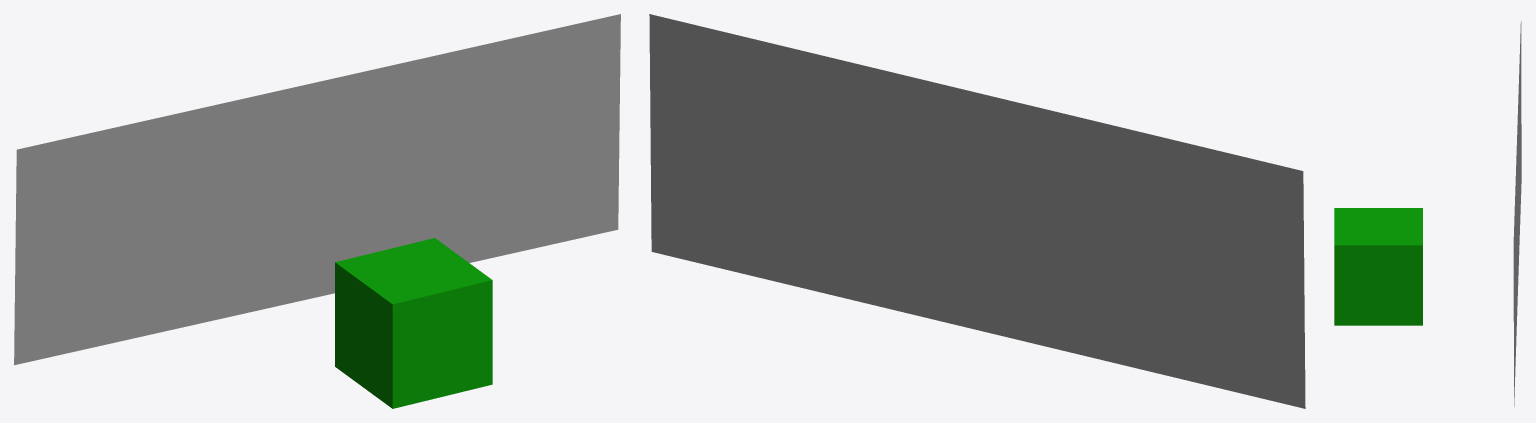
Rendered from reflectionTest.obj.
The picture shows the model from 3 angles, left to right: view 1: azimuth 30°, elevation 25°; view 2: azimuth 150°, elevation 25°; view 3: azimuth 270°, elevation 25°; orthographic projection. The views are drawn at different scales.
Visible parts, largest first — view 1: Plane.001, Cube; view 2: Plane.001; view 3: Cube, Plane.001.
Part boxes in pixels (box(x1,y1,x2,y2)): Plane.001: box(14, 14, 620, 365); Cube: box(335, 238, 492, 408); Plane.001: box(649, 14, 1305, 408); Cube: box(1334, 208, 1422, 325); Plane.001: box(1513, 21, 1521, 406).
Bounding box in the file's own units: 12.05 × 4.45 × 4.23.
